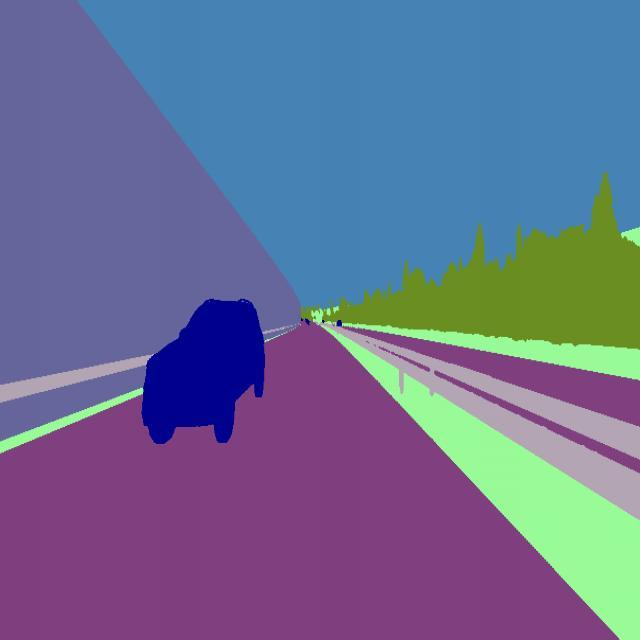unsafe: (140, 292, 268, 445)
